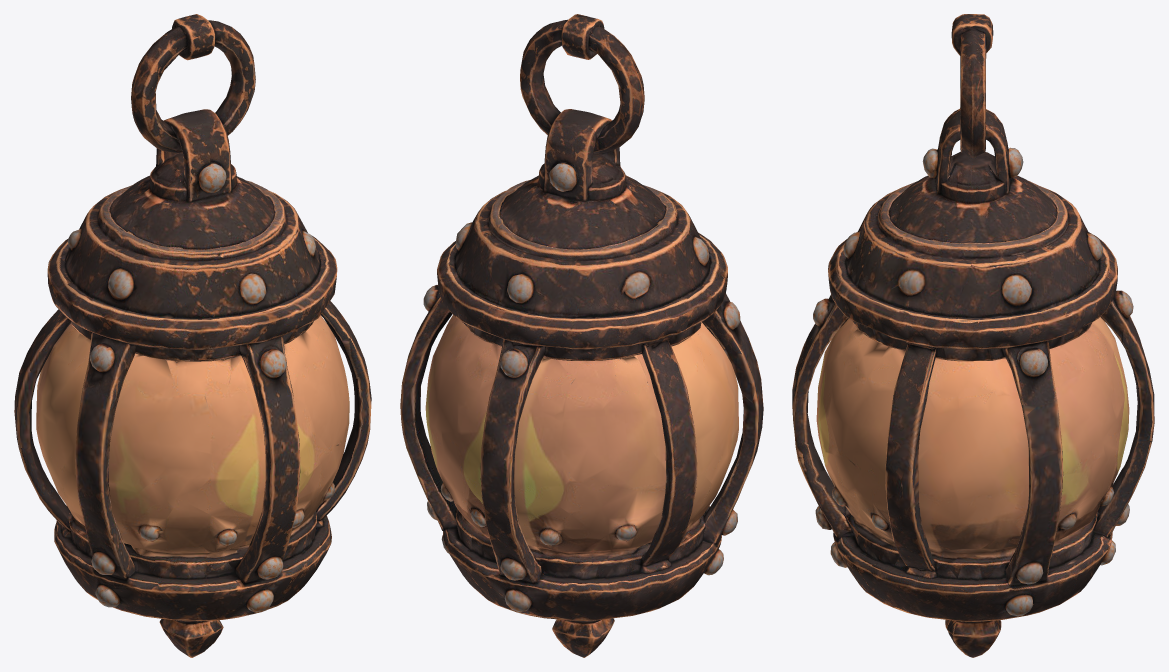
Rendered from lantern.glb.
3 renders of one model, left to right at view 1: azimuth 30°, elevation 25°; view 2: azimuth 150°, elevation 25°; view 3: azimuth 270°, elevation 25°, orthographic.
Size of the model in its own units: 0.9199 by 1.9 by 0.9768.
1 material, 1 textured.
